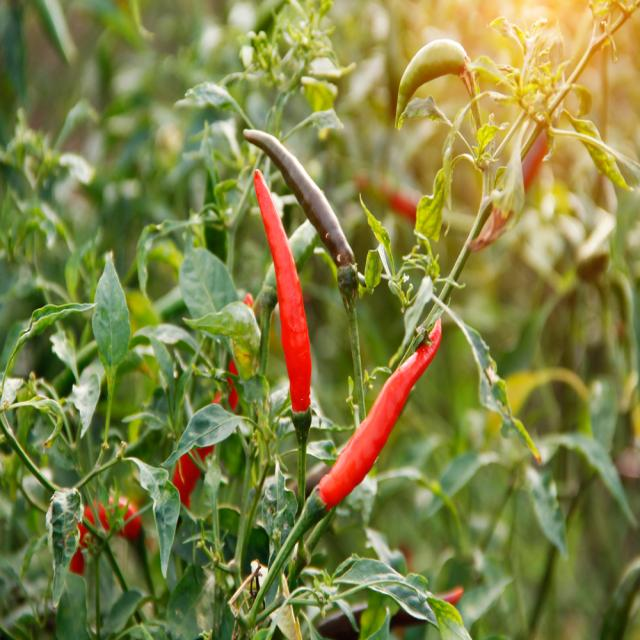Ripe: (320, 319, 441, 510), (254, 171, 311, 412), (435, 587, 464, 604)
Unripe: (244, 130, 354, 264), (396, 39, 468, 126)
